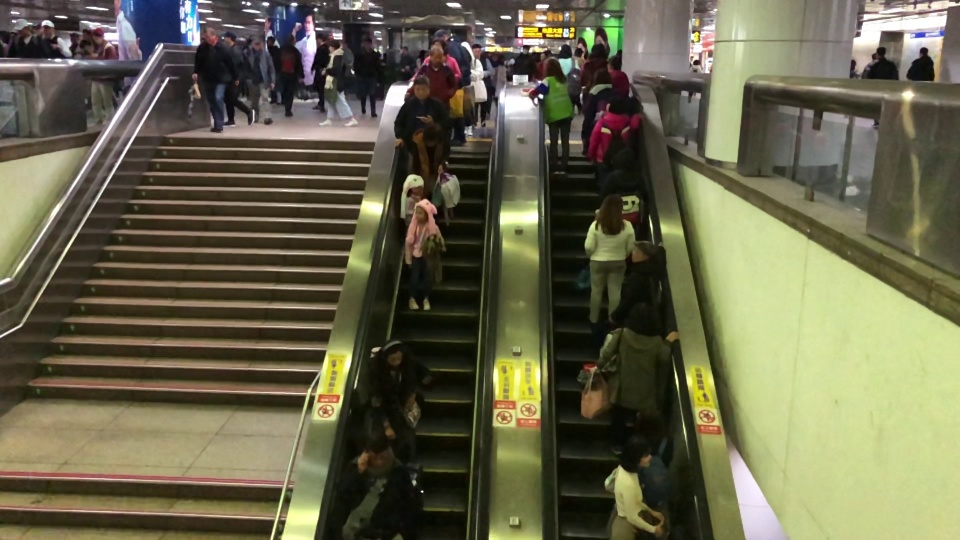person_head: (624, 301, 661, 338), (618, 434, 652, 472), (363, 430, 389, 470), (597, 193, 625, 225), (635, 405, 664, 435), (611, 146, 642, 172), (382, 337, 405, 369), (628, 239, 656, 264), (605, 91, 631, 115), (413, 197, 435, 223), (402, 173, 424, 196), (412, 75, 431, 101), (421, 126, 440, 148), (592, 67, 611, 87), (13, 17, 31, 38), (428, 44, 444, 66), (544, 58, 562, 77), (431, 36, 448, 56), (460, 40, 474, 62), (40, 19, 55, 39), (201, 25, 216, 44), (432, 28, 450, 43), (91, 27, 104, 46), (606, 55, 622, 70), (558, 43, 572, 60), (590, 44, 606, 58), (223, 31, 237, 44), (471, 42, 482, 58), (328, 39, 340, 53), (361, 38, 373, 51), (0, 30, 11, 44), (314, 33, 326, 45), (251, 38, 262, 51), (285, 33, 295, 47), (875, 46, 886, 58), (917, 47, 928, 58), (69, 32, 79, 44), (266, 35, 275, 47), (490, 50, 499, 62), (521, 44, 530, 56), (81, 28, 91, 38), (573, 47, 583, 57), (539, 51, 547, 62), (418, 50, 427, 58), (692, 58, 701, 66), (401, 46, 408, 55), (871, 52, 878, 60), (851, 59, 856, 68)
person_vbox: (589, 301, 680, 458), (327, 430, 423, 540), (363, 337, 428, 466), (583, 193, 635, 326), (520, 58, 574, 178), (610, 434, 665, 540), (634, 404, 675, 540), (191, 25, 239, 133), (587, 91, 643, 182), (607, 239, 665, 326), (598, 146, 649, 240), (432, 28, 472, 147), (402, 197, 441, 311), (393, 75, 451, 148), (404, 44, 457, 115), (317, 39, 358, 127), (84, 27, 118, 126), (221, 31, 255, 128), (579, 67, 621, 141), (407, 126, 450, 197), (242, 37, 276, 124), (865, 46, 899, 129), (406, 36, 462, 82), (276, 33, 305, 117), (352, 38, 381, 117), (460, 41, 483, 136), (472, 42, 494, 128), (309, 32, 330, 113), (558, 43, 581, 115), (485, 50, 507, 120), (34, 19, 72, 58), (398, 173, 424, 226), (11, 17, 41, 58), (579, 44, 606, 88), (906, 47, 934, 81), (510, 44, 535, 82), (606, 55, 629, 95), (266, 35, 279, 104), (396, 45, 416, 81), (860, 52, 878, 78), (572, 46, 584, 80), (691, 58, 701, 97), (535, 51, 547, 81), (0, 30, 11, 58), (414, 49, 427, 71), (69, 32, 79, 59), (850, 59, 858, 78)
